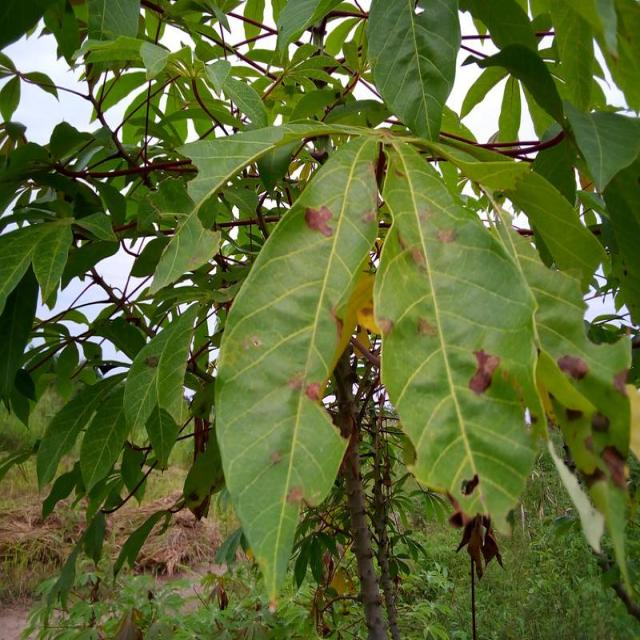cassava leaf: (212, 132, 381, 610), (371, 133, 547, 540)
